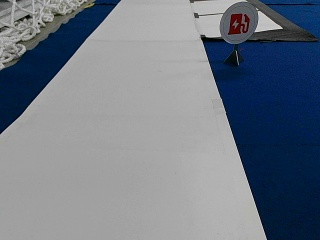battery: (220, 1, 258, 43)
